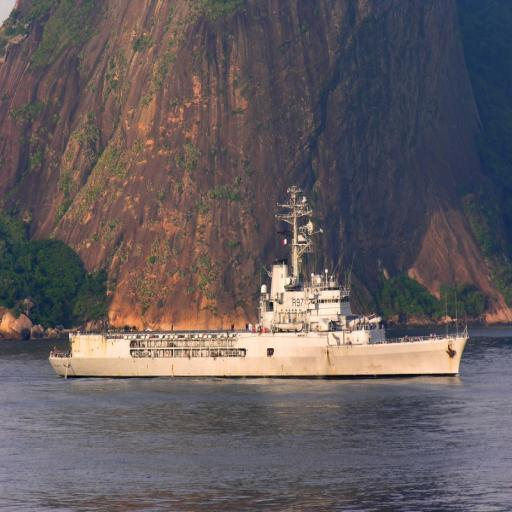Portanaves: (48, 184, 473, 383)
